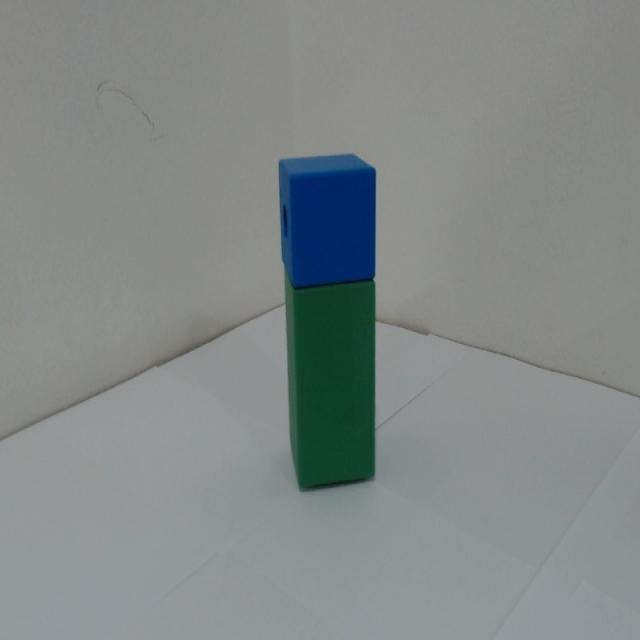cube: (262, 133, 420, 290)
